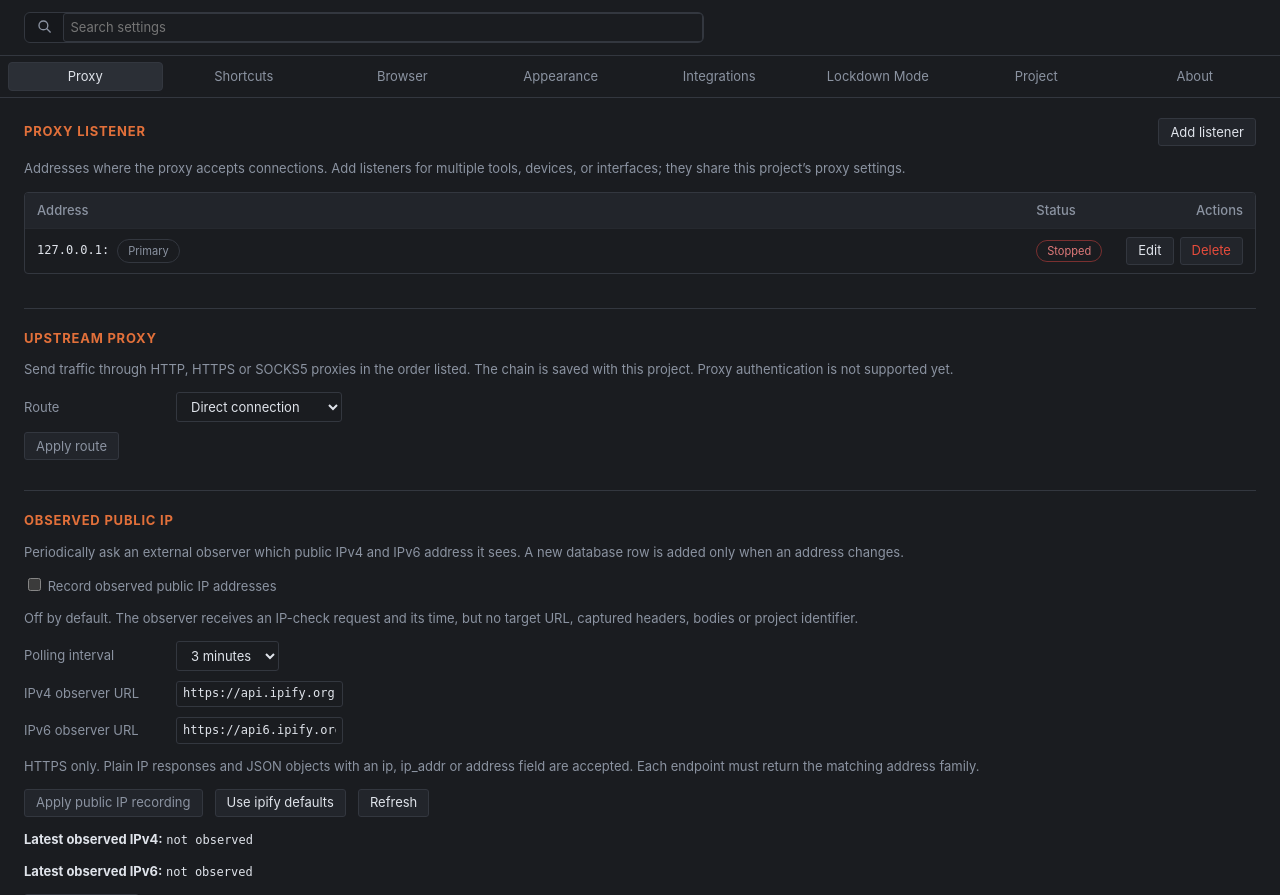
SettingsTab › puts the media limit in Project and mounts it only when opened
The width and height of the screenshot is (1280, 895).
Expected: the heading "Media body storage" is not shown
Type "미디어" into the search field labelled "Search settings" at [383, 27], box top-left (63, 13), bottom-right (703, 42)
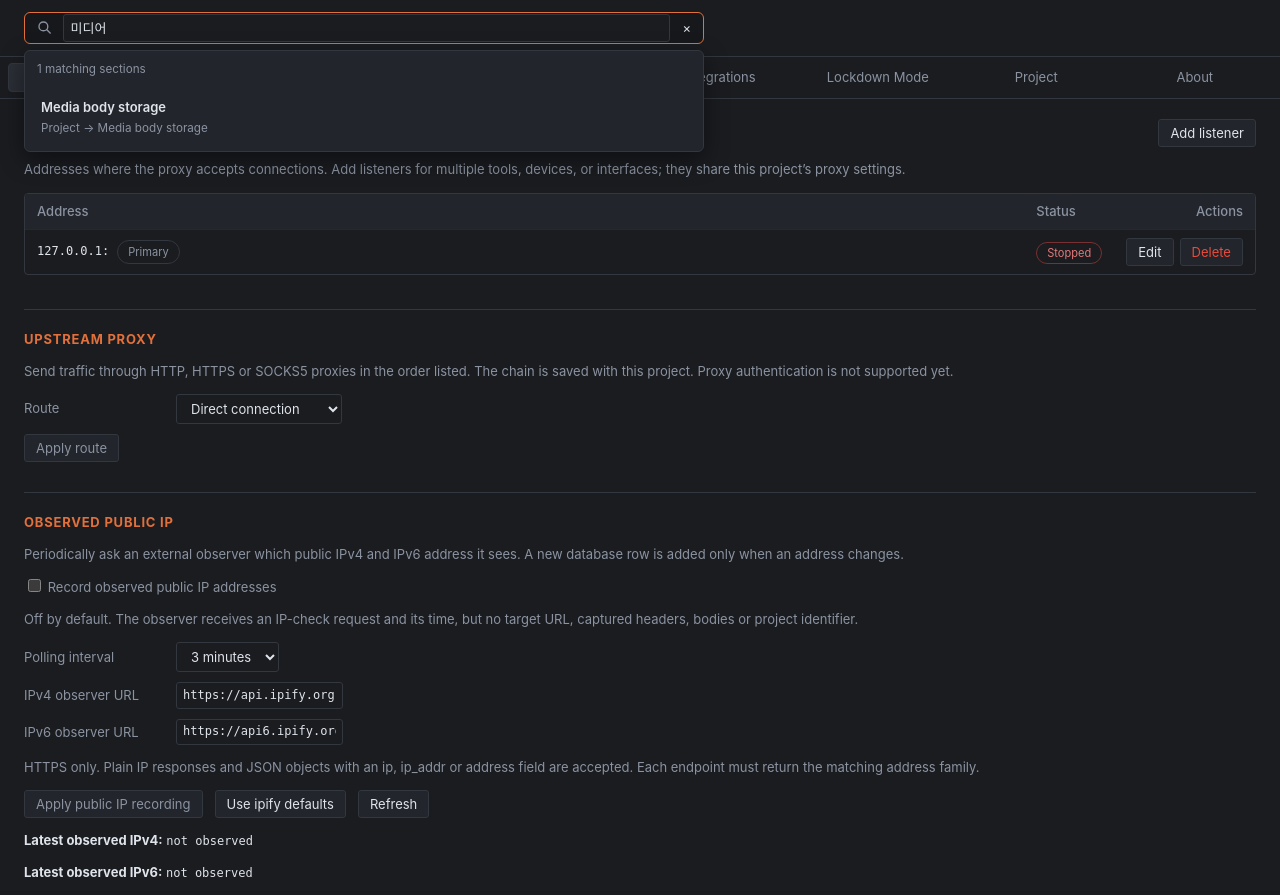
Click the button "Media body storage Project → Media body storage" at [103, 107], box top-left (29, 88), bottom-right (699, 147)
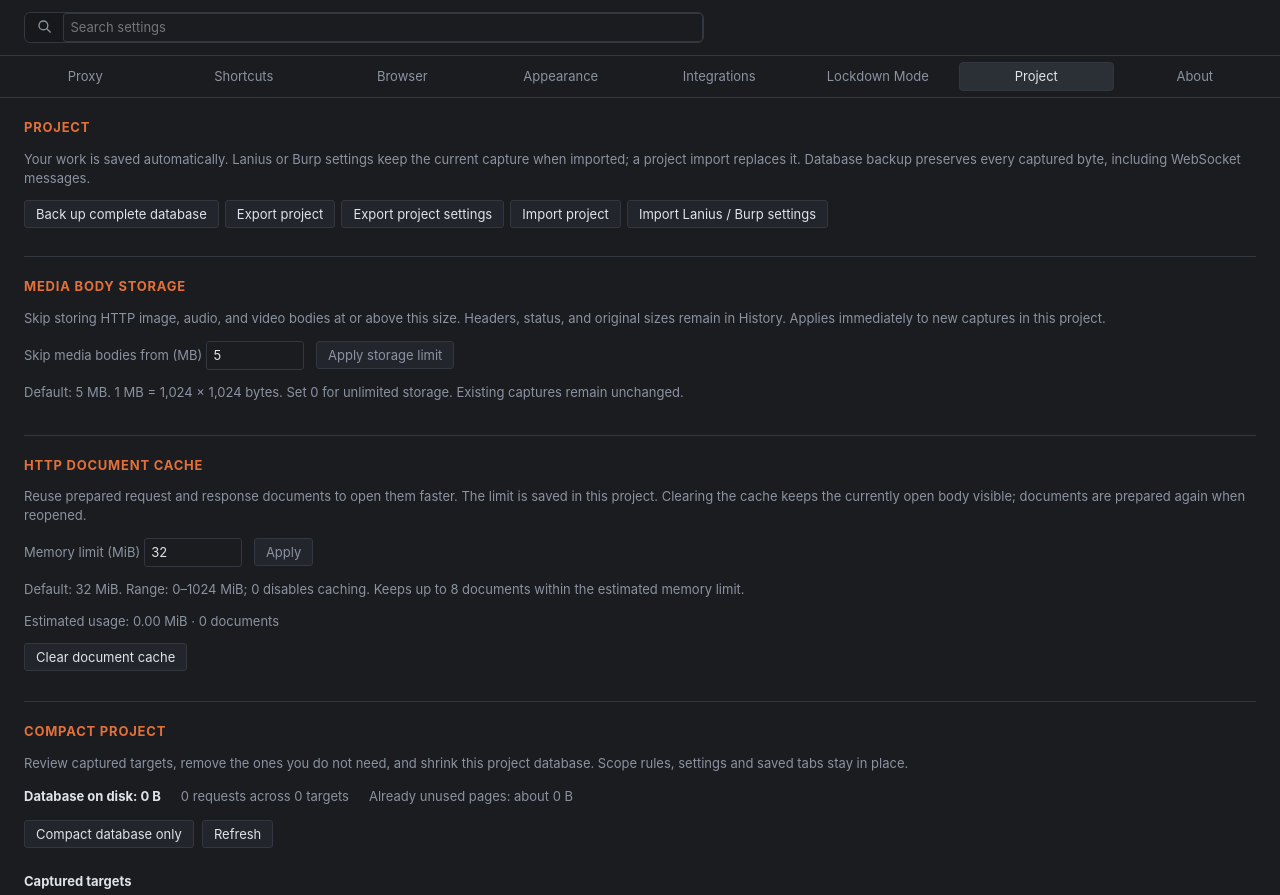
Expected: the number field labelled "Skip media bodies from (MB)" holds "5", top-left (206, 341), bottom-right (304, 370)
Click the button "Proxy" at [85, 76], box top-left (8, 62), bottom-right (162, 91)
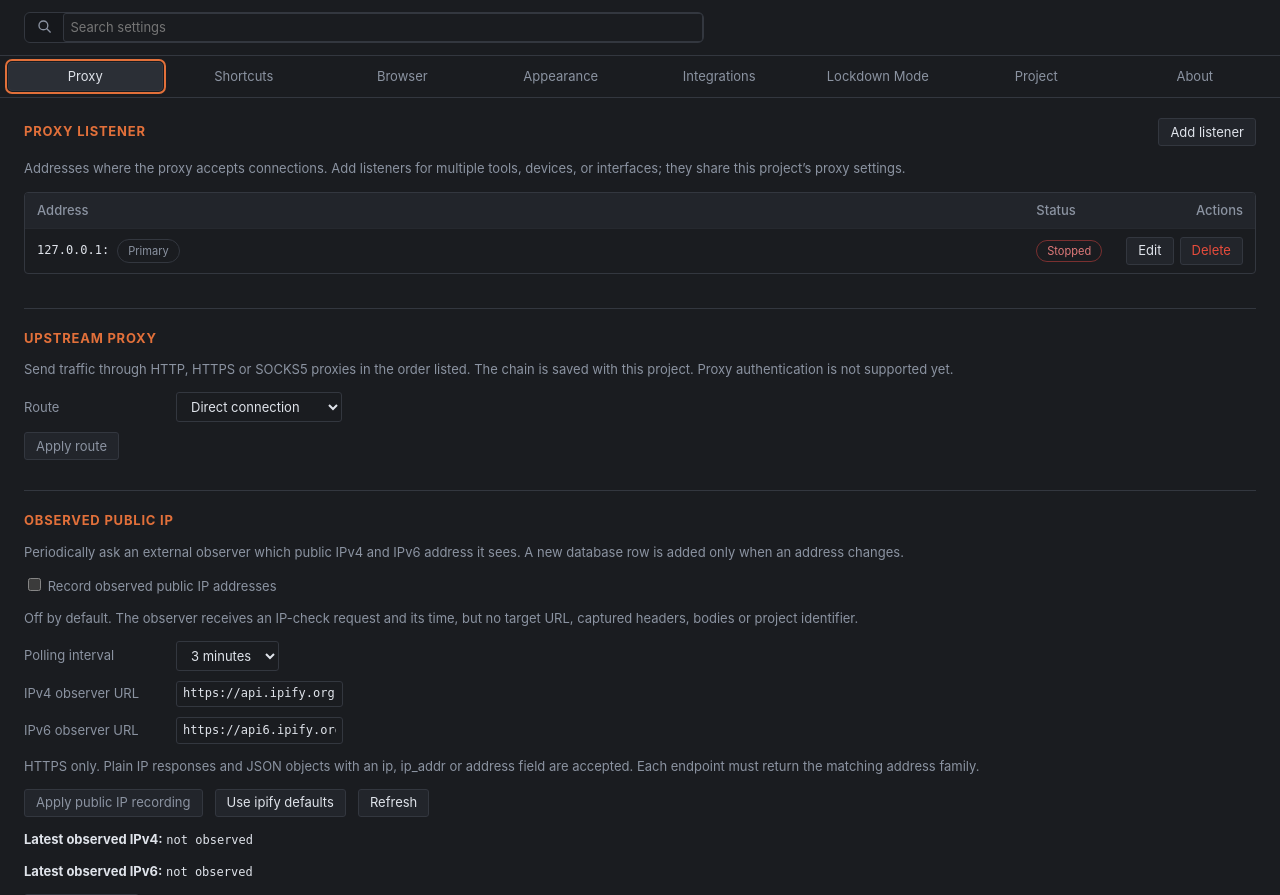
Expected: the heading "Media body storage" is gone
